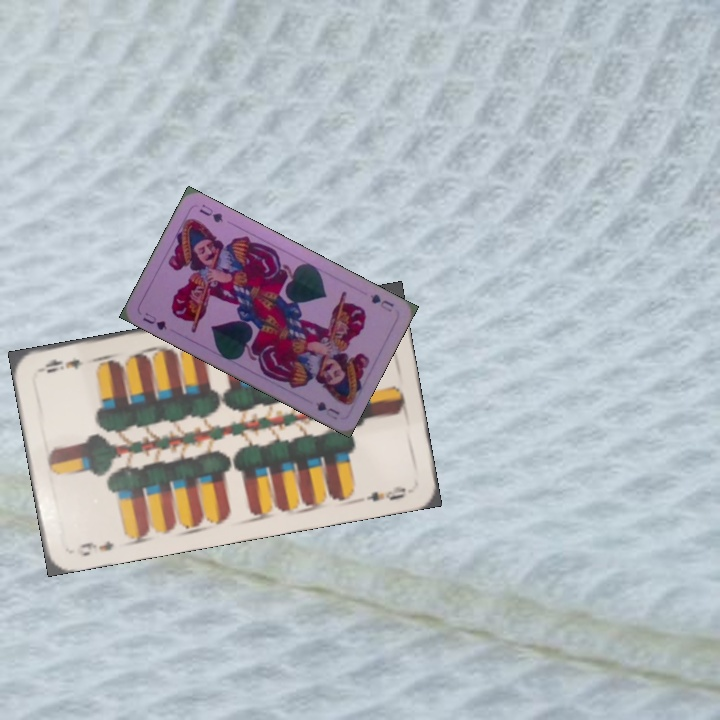E9: (72, 537, 117, 559)
GU: (139, 308, 169, 333), (366, 290, 396, 315)
